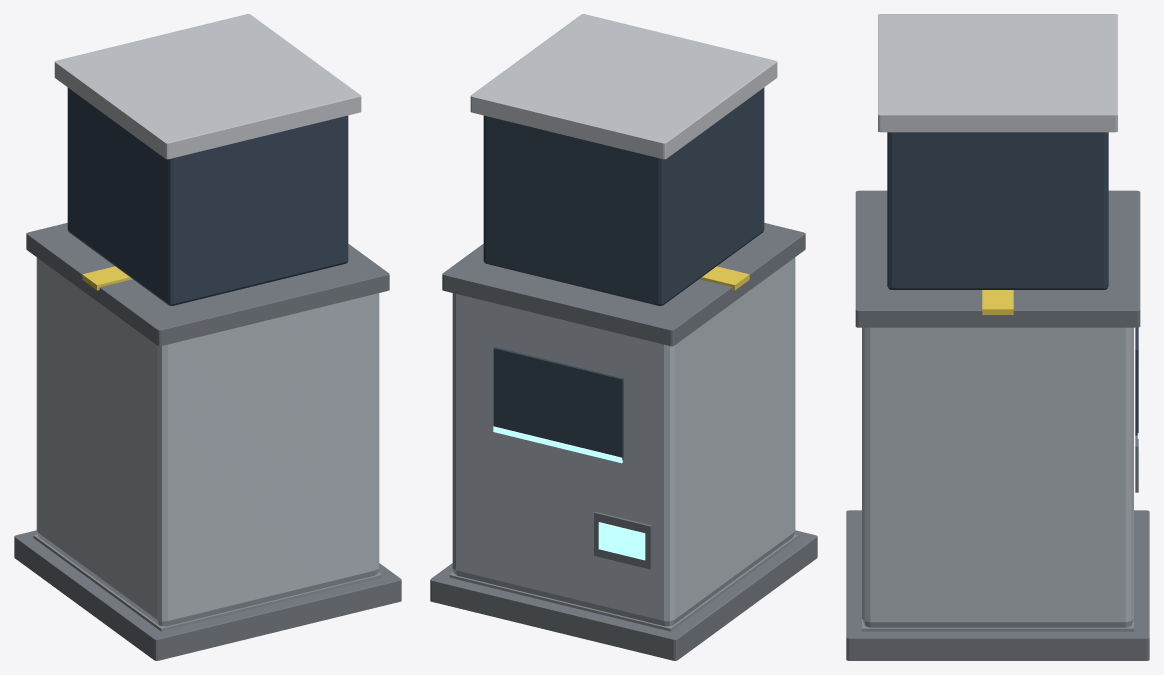
File: assembler.glb
3 renders of one model, left to right at view 1: azimuth 30°, elevation 25°; view 2: azimuth 150°, elevation 25°; view 3: azimuth 270°, elevation 25°, orthographic. The views are drawn at different scales.
Parts seen in each view (by area): view 1: body, hood, hood_frame, body_trim, base, base_grate, hazard; view 2: body, hood, hood_frame, body_trim, base, window, base_grate, display, display_glow, window_glow, hazard; view 3: body, hood, hood_frame, body_trim, base, base_grate, hazard.
Boxes of the visible parts, x1,y1,x2,y2 form: body: (36, 257, 379, 626); hood: (67, 87, 348, 305); hood_frame: (54, 14, 361, 159); body_trim: (26, 223, 389, 346); base: (14, 530, 401, 660); base_grate: (33, 534, 382, 631); hazard: (82, 266, 132, 290); body: (452, 257, 795, 626); hood: (483, 87, 764, 305); hood_frame: (470, 14, 777, 159); body_trim: (442, 223, 805, 346); base: (430, 530, 817, 660); window: (493, 347, 623, 459); base_grate: (449, 534, 798, 631); display: (594, 511, 651, 569); display_glow: (598, 522, 645, 560); window_glow: (493, 426, 622, 463); hazard: (699, 266, 749, 290); body: (862, 327, 1133, 627); hood: (887, 132, 1108, 289); hood_frame: (878, 14, 1117, 132); body_trim: (855, 190, 1140, 327); base: (846, 510, 1149, 660); base_grate: (862, 619, 1133, 631); hazard: (982, 290, 1013, 314).
Size of the model in its own units: 0.96 by 1.86 by 0.96.
